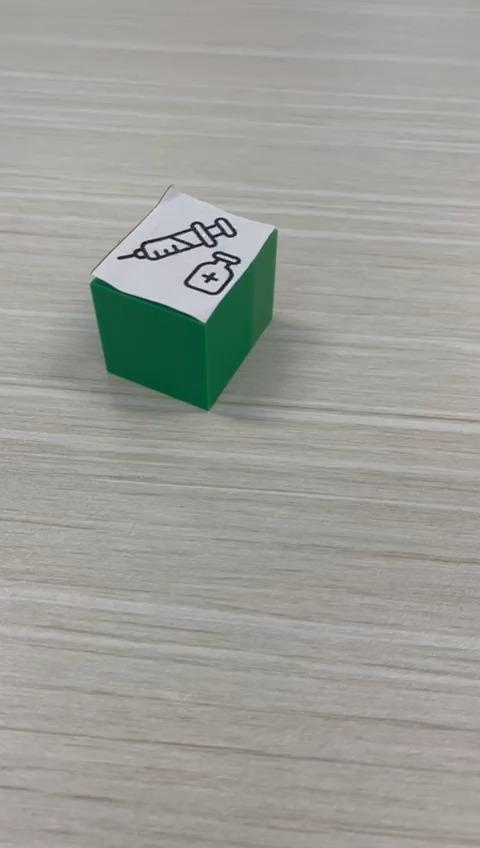antiseptic cream: (88, 182, 278, 411)
